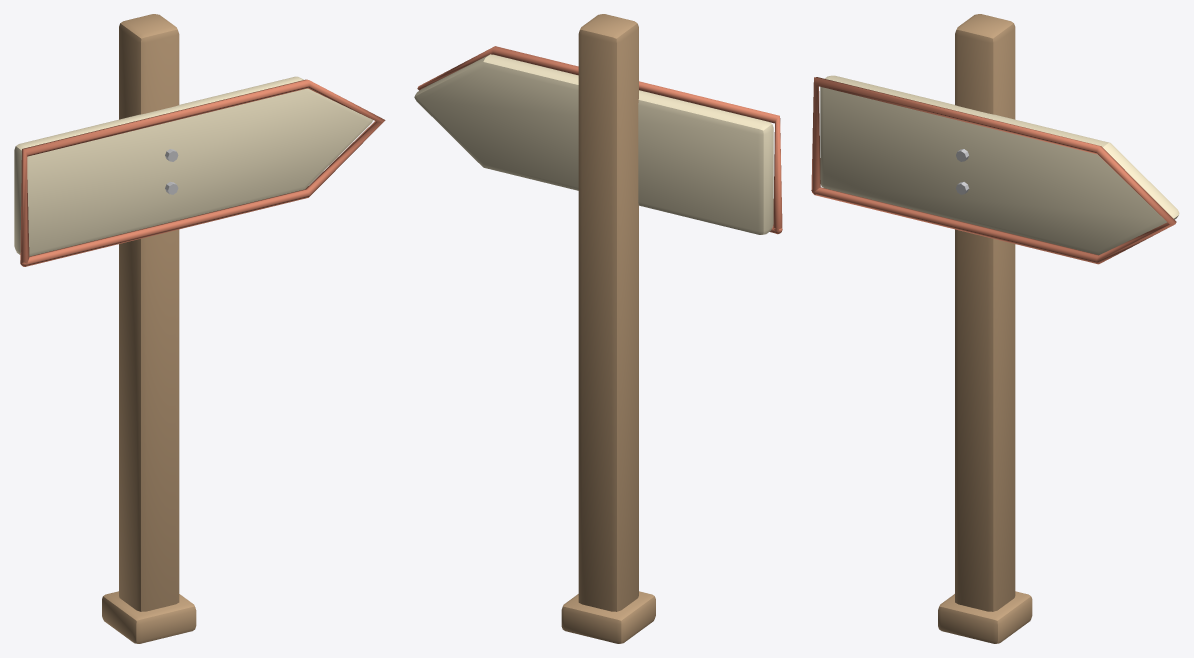
File: signpost.glb
The picture shows the model from 3 angles, left to right: view 1: azimuth 30°, elevation 25°; view 2: azimuth 150°, elevation 25°; view 3: azimuth 330°, elevation 25°; orthographic projection.
Visible parts, largest first — view 1: signpost; view 2: signpost; view 3: signpost.
Boxes of the visible parts, <box> form: signpost: <box>14,14,385,643</box>; signpost: <box>414,14,782,643</box>; signpost: <box>811,14,1179,643</box>.
Bounding box in the file's own units: 0.6956 × 1.1 × 0.142.
